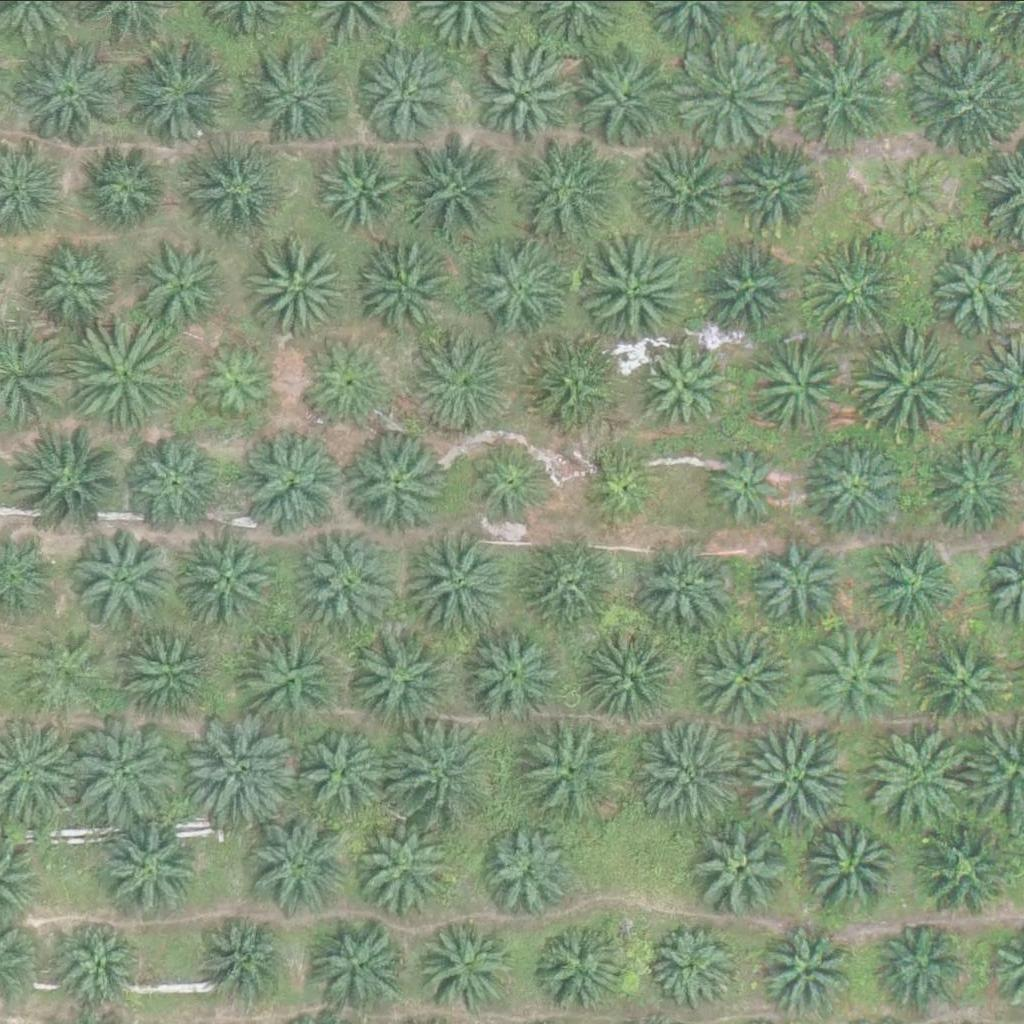Kelapa_Sawit: (386, 715, 500, 828), (522, 711, 636, 824), (20, 422, 134, 535), (119, 40, 233, 153), (790, 41, 904, 154), (189, 716, 302, 829), (634, 718, 747, 831), (235, 618, 348, 731), (576, 240, 689, 353), (14, 41, 127, 154), (857, 330, 970, 443), (870, 721, 983, 834), (741, 715, 854, 828), (72, 313, 186, 425), (231, 34, 345, 146), (76, 711, 189, 823), (345, 619, 458, 731), (288, 521, 401, 633), (403, 525, 516, 637), (403, 321, 516, 433), (403, 132, 516, 244), (675, 41, 788, 153), (799, 233, 912, 345), (420, 916, 521, 1016), (691, 816, 792, 916), (484, 821, 585, 921), (359, 818, 460, 918), (251, 810, 352, 910), (101, 816, 202, 916), (298, 725, 399, 825), (579, 620, 680, 720), (462, 620, 563, 720), (117, 622, 218, 722), (182, 531, 283, 631), (526, 536, 627, 636), (635, 531, 736, 631), (346, 433, 447, 533), (522, 321, 623, 421), (257, 238, 358, 338), (469, 239, 570, 339), (698, 248, 799, 348), (629, 145, 730, 245), (529, 135, 630, 235), (184, 139, 285, 239), (356, 41, 457, 141), (472, 44, 573, 144), (750, 336, 851, 436), (810, 438, 911, 538), (800, 628, 901, 728), (910, 631, 1011, 731), (197, 905, 297, 1005), (313, 912, 413, 1012), (534, 912, 634, 1012), (693, 624, 793, 724), (75, 520, 175, 620), (123, 433, 223, 533), (244, 431, 344, 531), (355, 233, 455, 333), (579, 51, 679, 151), (726, 144, 826, 244), (801, 814, 901, 914), (915, 814, 1015, 914), (866, 911, 966, 1011), (757, 919, 857, 1019), (644, 921, 732, 1009), (574, 439, 662, 527), (461, 439, 549, 527), (642, 344, 730, 432), (194, 330, 282, 418), (869, 147, 957, 235), (868, 540, 956, 628), (759, 541, 847, 629), (52, 914, 141, 1001), (23, 627, 112, 714), (706, 445, 794, 532), (305, 336, 393, 423), (33, 242, 121, 329), (140, 238, 228, 325), (314, 147, 402, 234), (75, 144, 163, 231)
